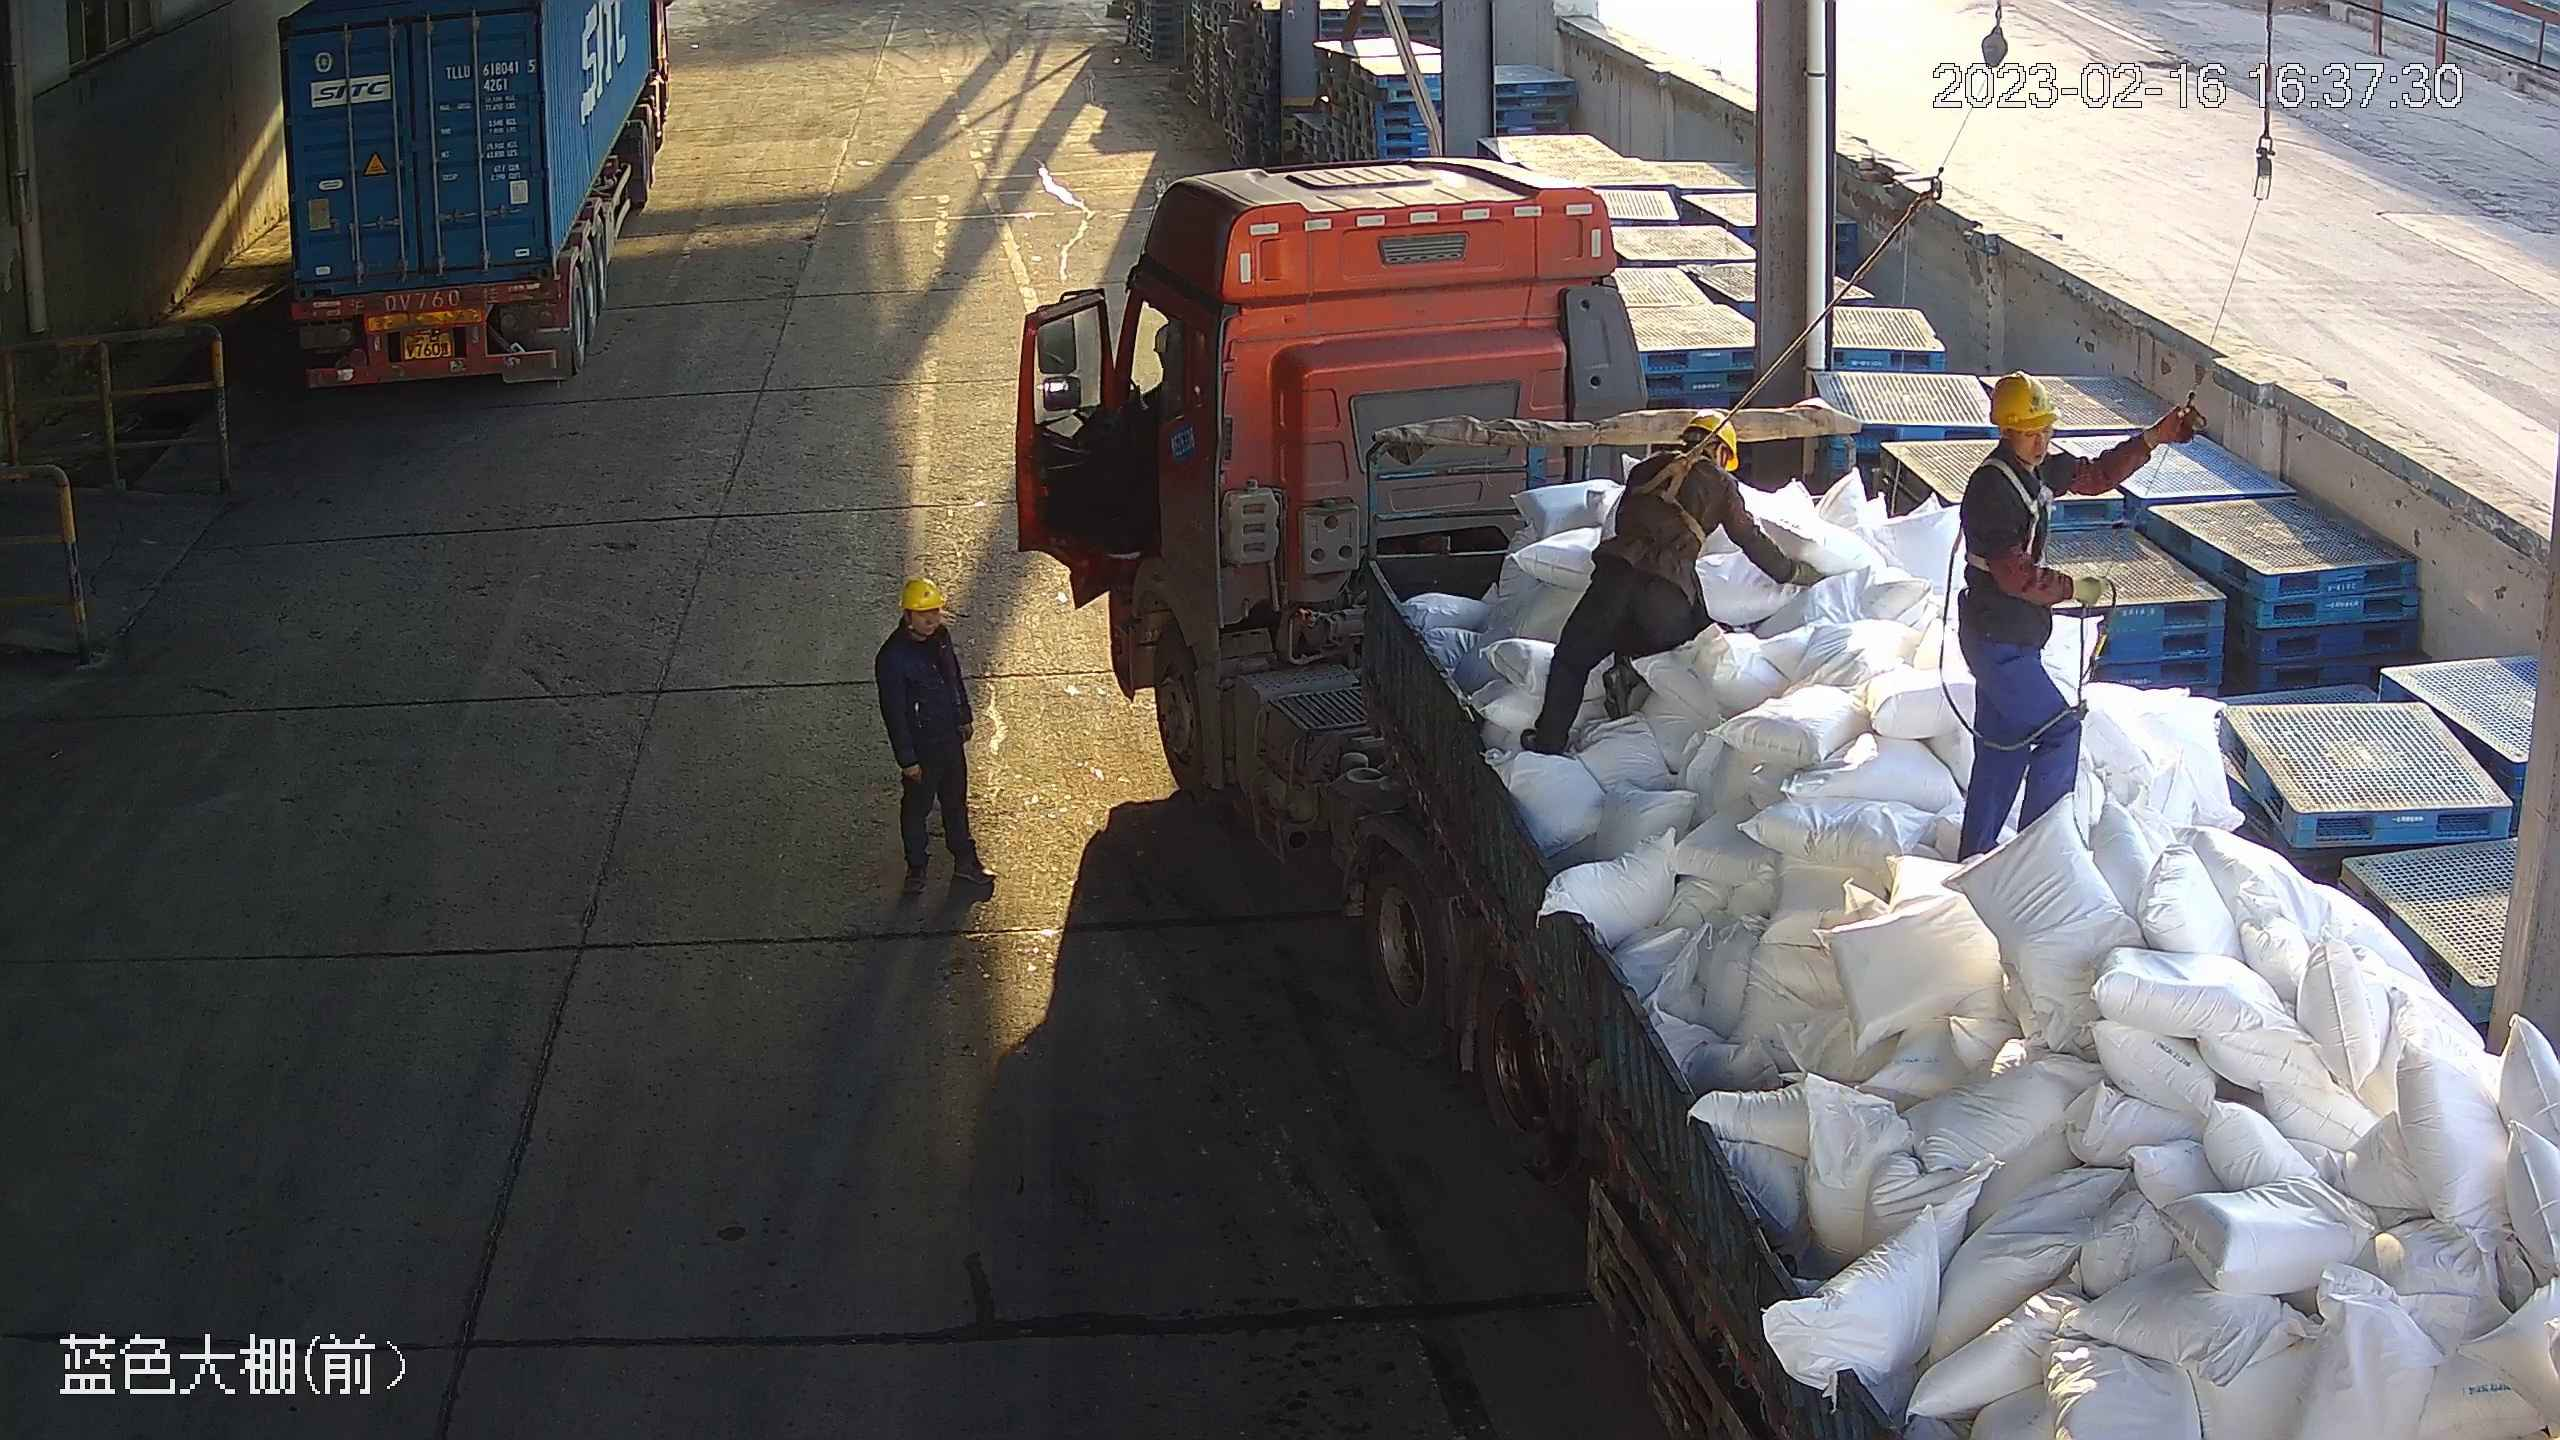belt: (1962, 461, 2059, 574), (1642, 447, 1722, 561)
head: (1969, 372, 2105, 542), (1625, 406, 1751, 545), (867, 576, 964, 689)
helmet: (1984, 369, 2054, 432), (1681, 410, 1744, 478), (901, 576, 947, 610)
people: (1949, 367, 2191, 862), (1518, 405, 1827, 764), (873, 576, 993, 893)
truck: (1006, 150, 2560, 1440), (274, 1, 673, 401)
